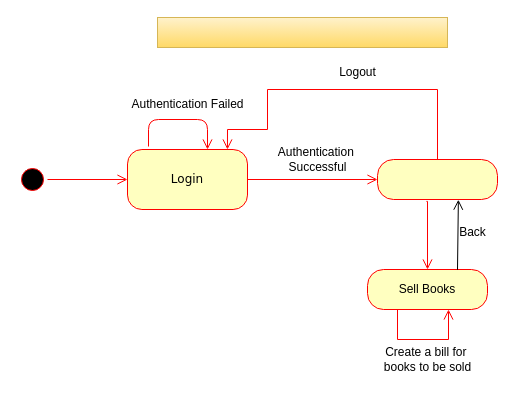
The diagram is 515 pixels wide and 397 high, and some of its shapes have lost their labels. The shapes that lost their labels are listed below. From the top down, each one's centre as x and y in pixels, then its label:
At point 302,32: "Librarian State Machine With Default Permissions".
At point 437,179: "Manger Dashboard".
